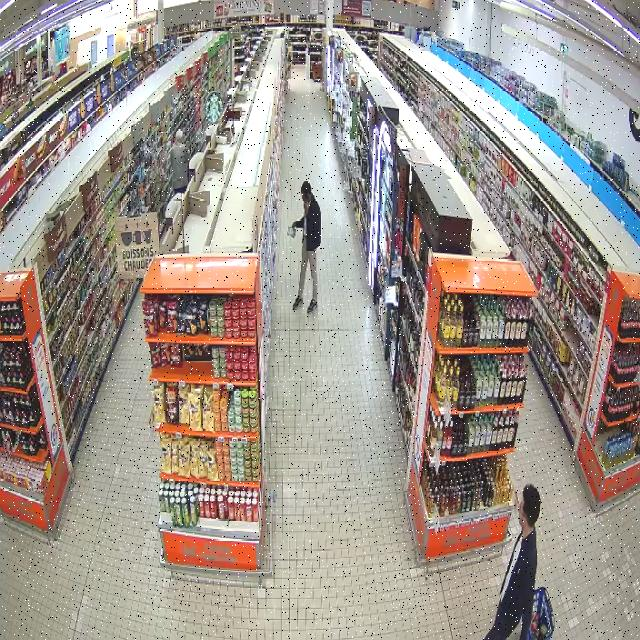article: (287, 227, 296, 237)
hands: (303, 199, 311, 214), (291, 221, 297, 228)
person: (485, 483, 540, 639), (289, 180, 321, 312)
